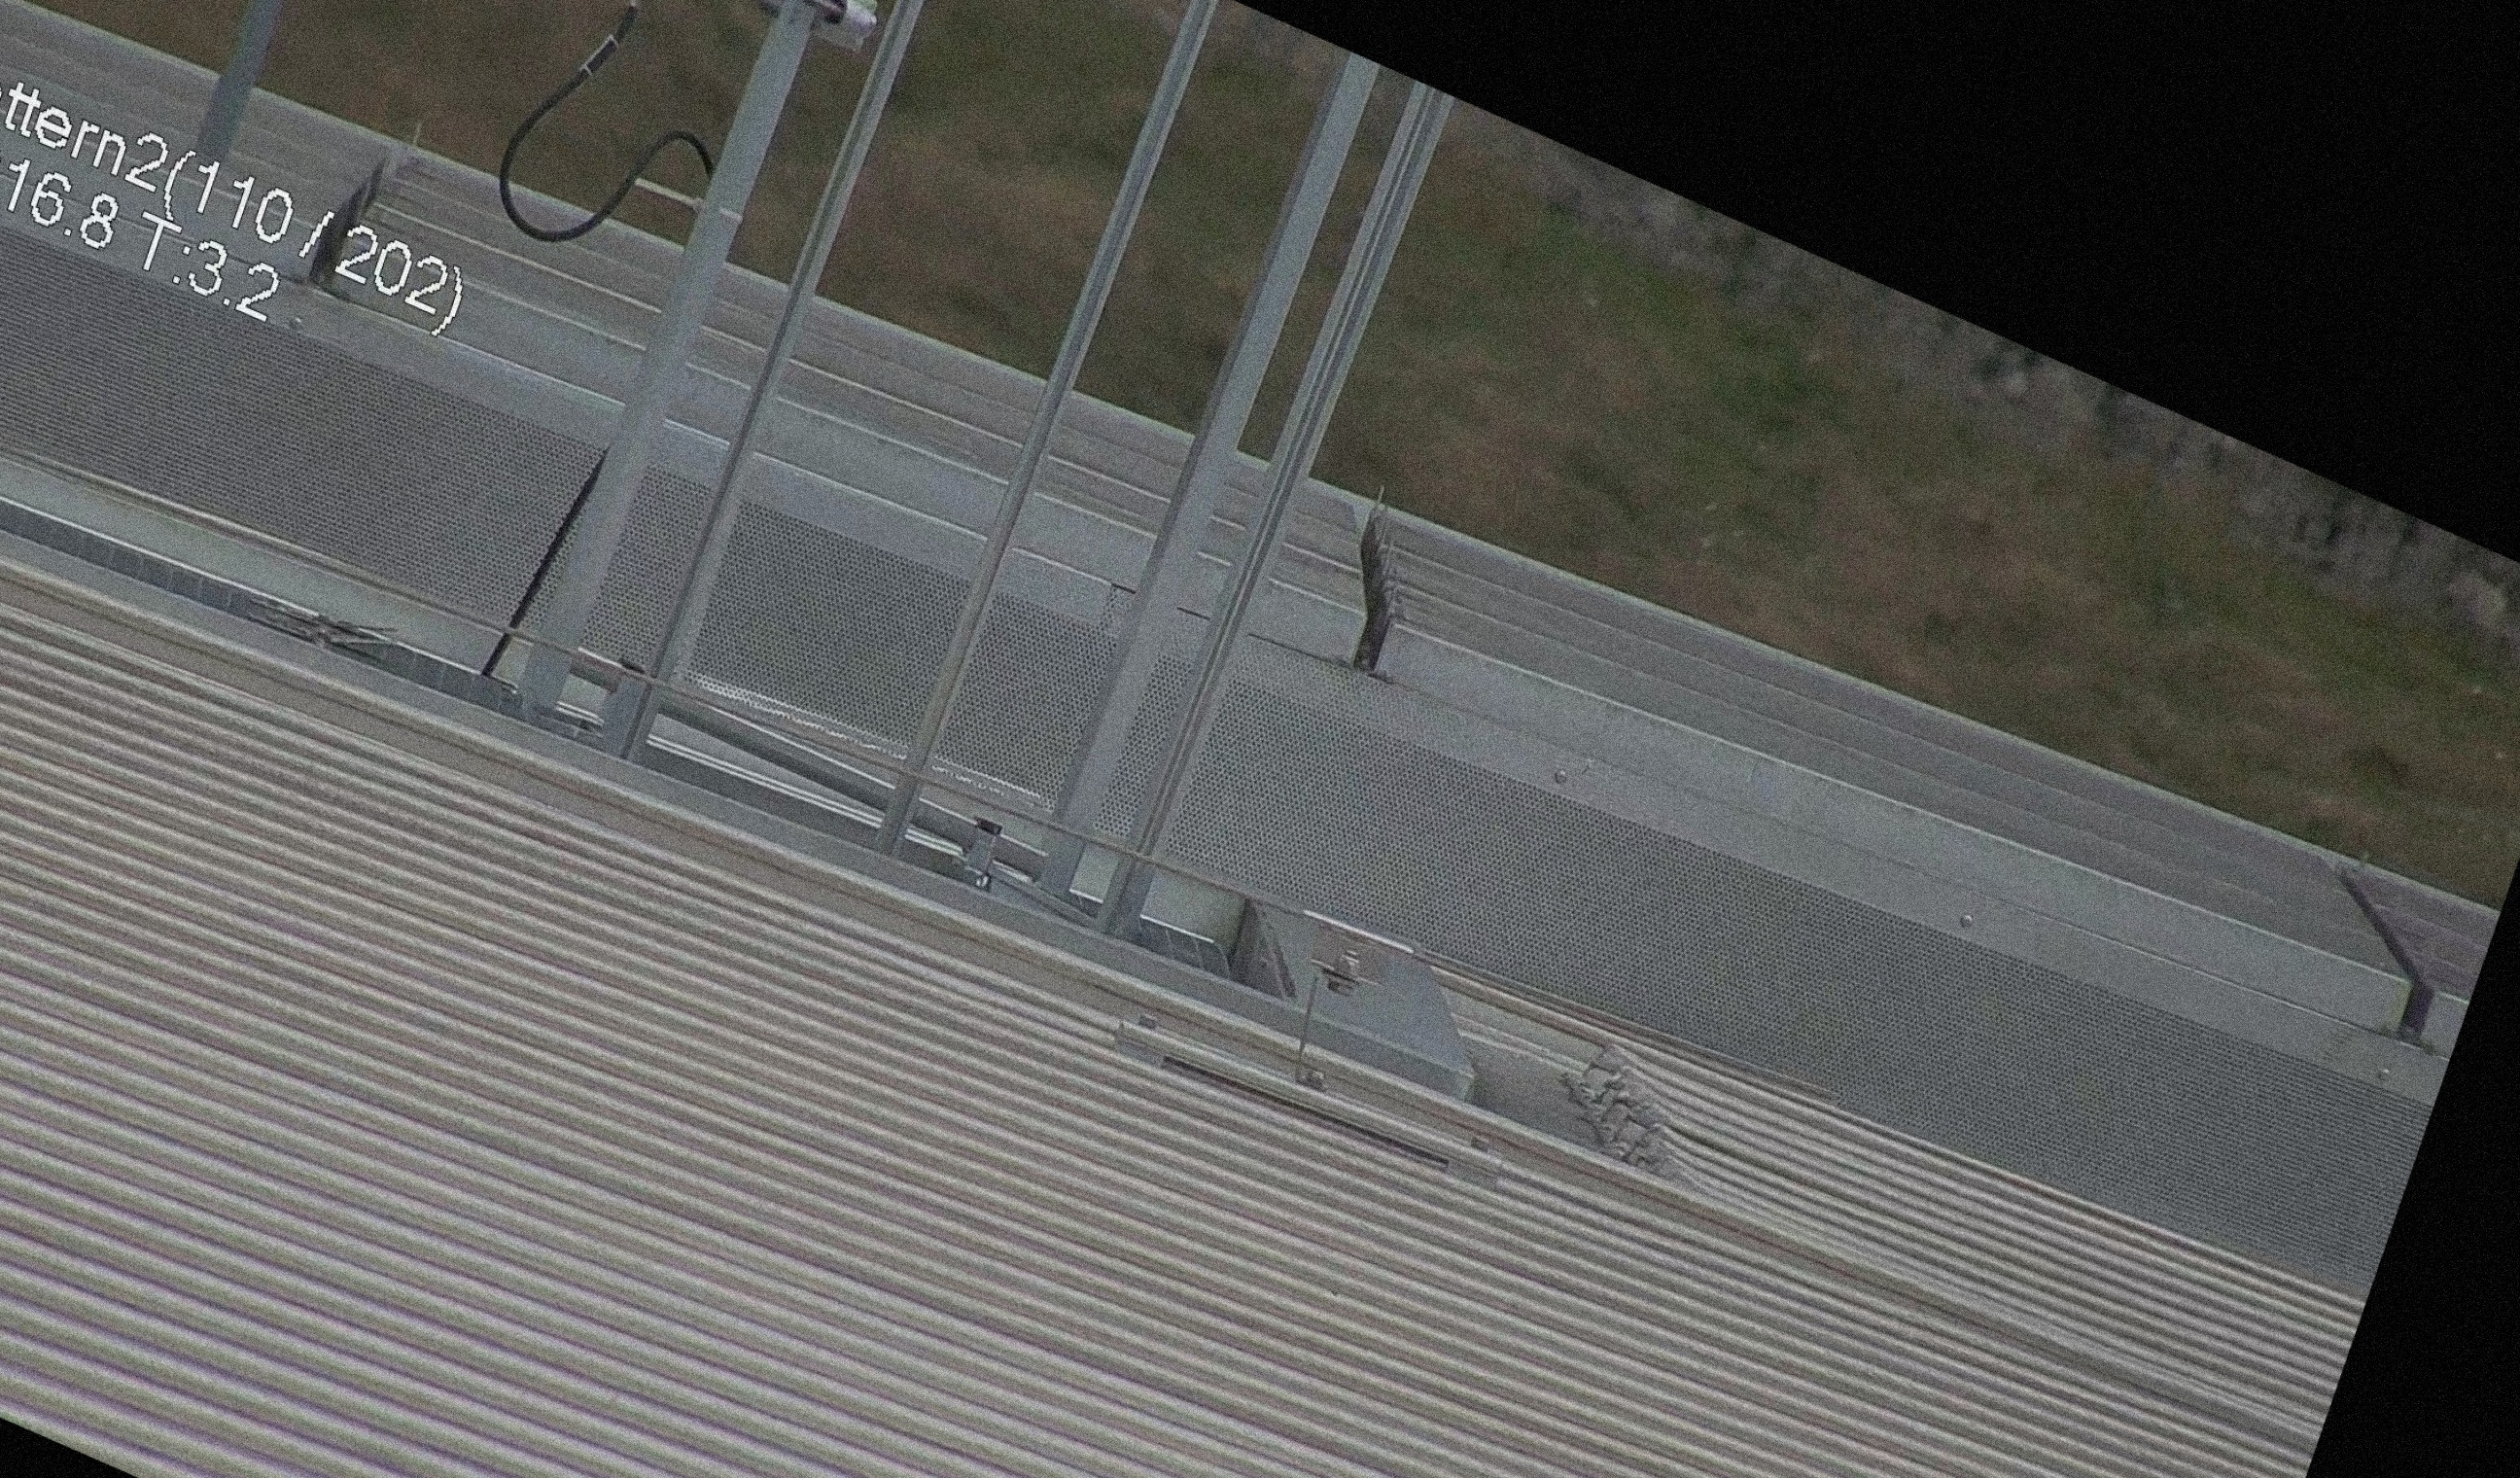Other: (1305, 468, 1454, 683)
